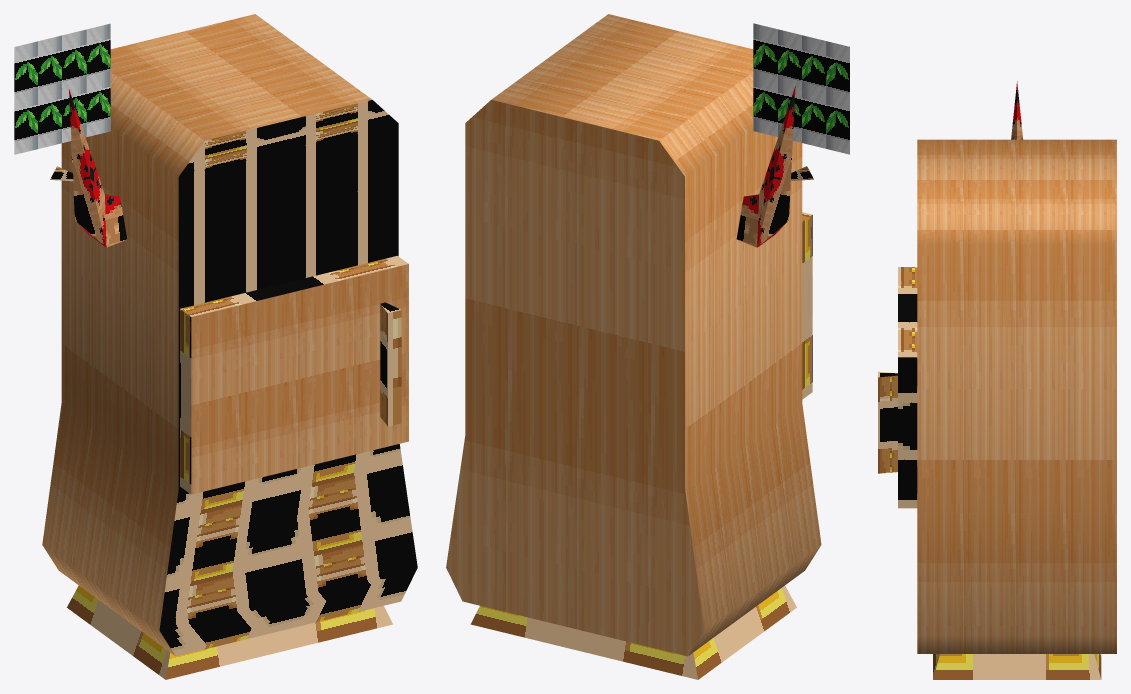
File: 3869kg3_shp00.gltf
3 views of the same model, side by side, from view 1: azimuth 30°, elevation 25°; view 2: azimuth 150°, elevation 25°; view 3: azimuth 270°, elevation 25° (orthographic). The views are drawn at different scales.
Parts seen in each view (by area): view 1: 3869kg3_shp00; view 2: 3869kg3_shp00; view 3: 3869kg3_shp00.
Boxes of the visible parts, x1,y1,x2,y2 form: 3869kg3_shp00: (14,14,417,679); 3869kg3_shp00: (446,14,849,679); 3869kg3_shp00: (878,81,1116,679).
Size of the model in its own units: 1.31 by 2.26 by 0.9258.
Materials: 4 (4 with a texture image).
